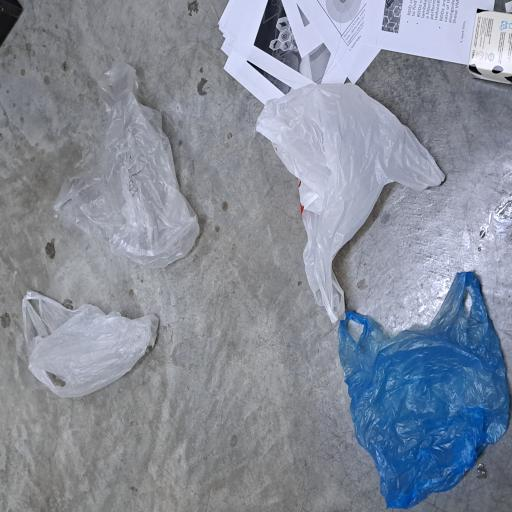paper: (305, 289, 384, 512)
plastic bag: (143, 337, 320, 512), (182, 70, 333, 268), (86, 28, 166, 212), (4, 446, 179, 512)
